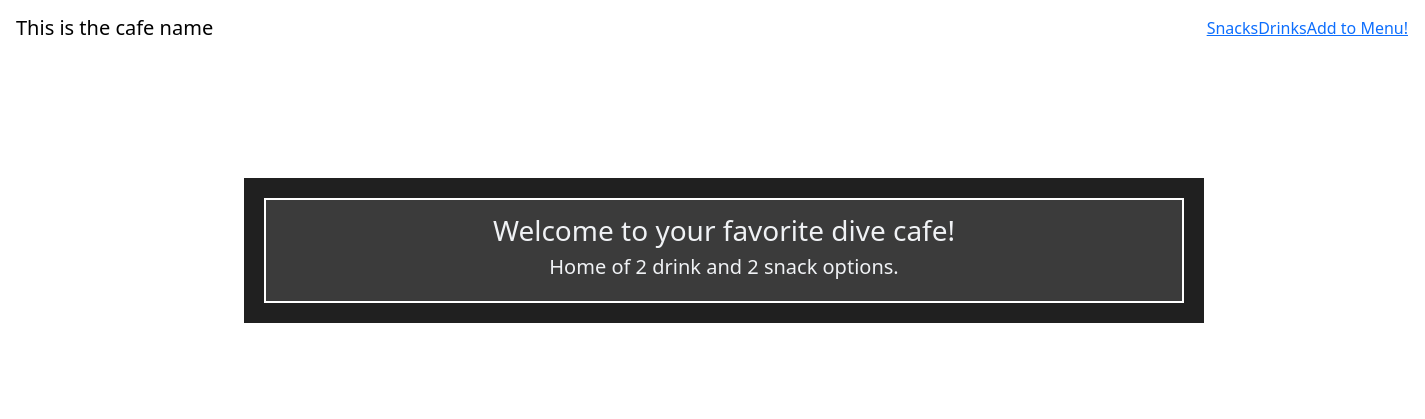
Cafe routes › renders a drink from the menu and goes home
expect the heading "Welcome to your favorite dive cafe!" is shown: met, box [493, 210, 955, 248]
What coordinates should you click on to do the following:
click the link "Drinks"
I would click on:
 (1282, 28)
Its box is [1258, 17, 1307, 39].
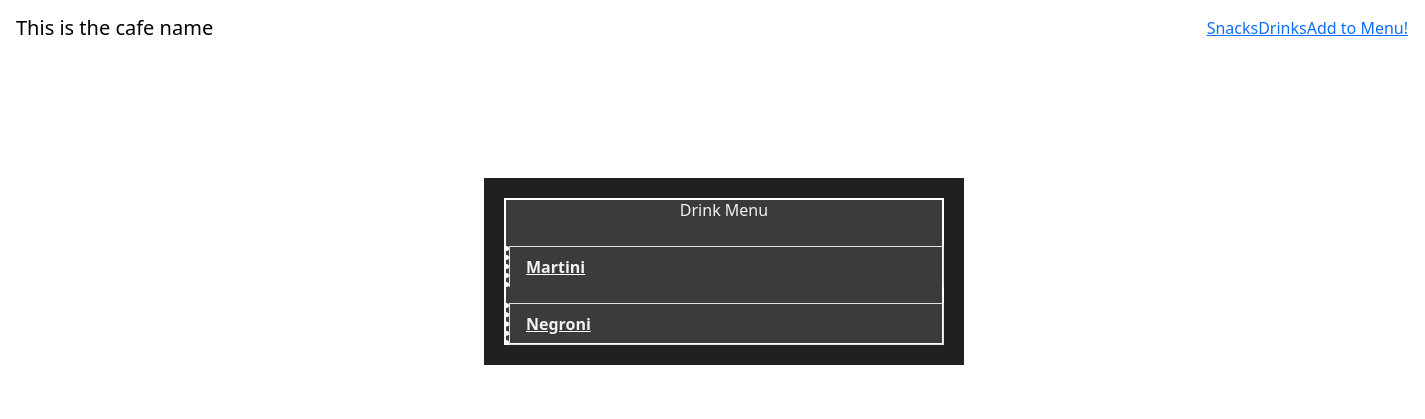
expect the text "Drink Menu" is shown: met, box [680, 198, 768, 220]
What coordinates should you click on to do the following:
click the link "Martini"
I would click on:
 (724, 266)
Its box is [504, 246, 944, 286].
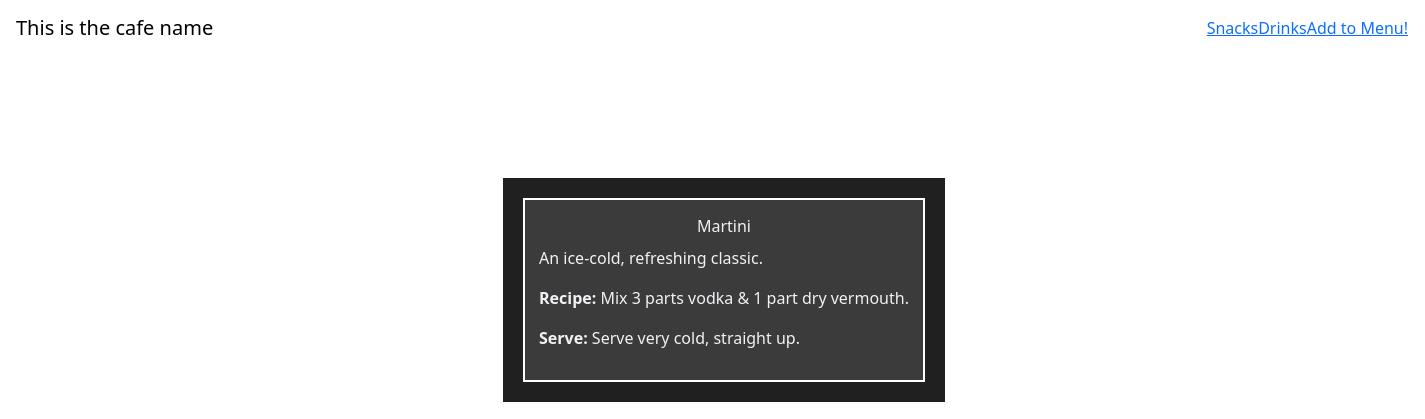
expect the text "An ice-cold, refreshing classic." is shown: met, box [539, 246, 763, 268]
What coordinates should you click on to do the following:
click the link "This is the cafe name"
I would click on:
 (115, 28)
Its box is [16, 8, 213, 48].
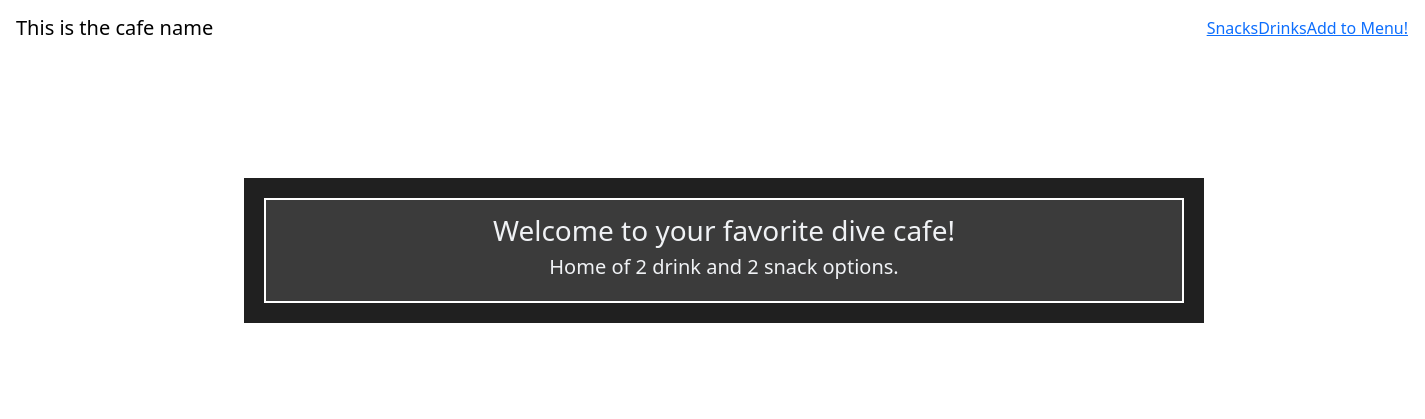
expect the heading "Welcome to your favorite dive cafe!" is shown: met, box [493, 210, 955, 248]
